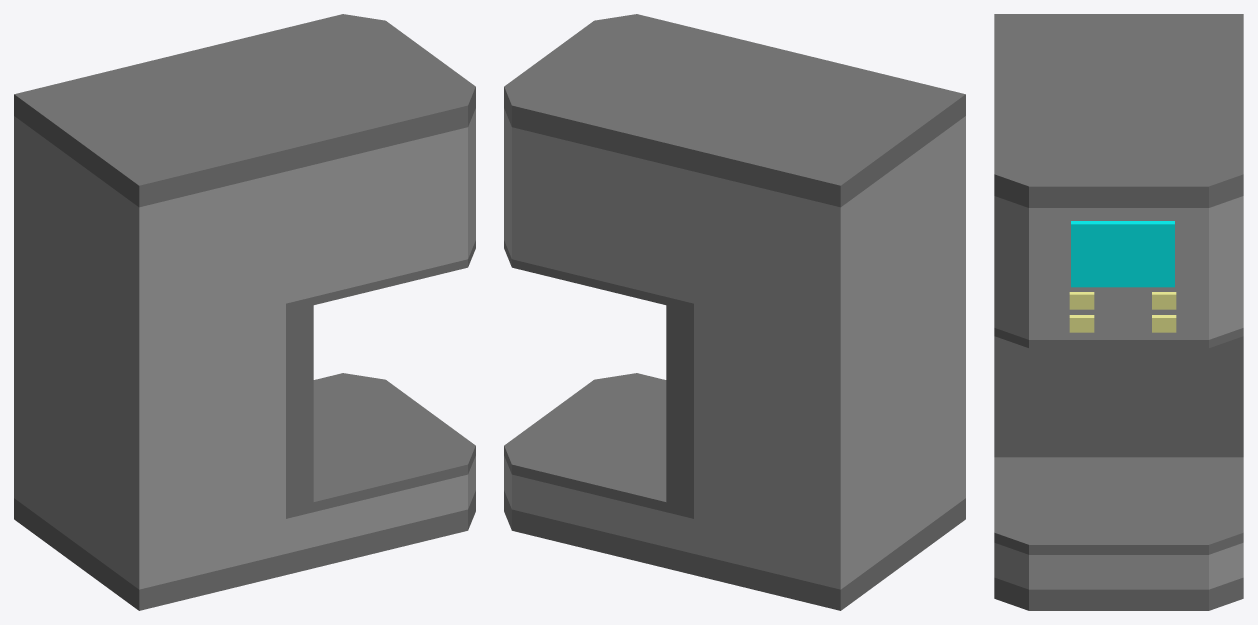
File: Coffee Machine Body.fbx
3 renders of one model, left to right at view 1: azimuth 30°, elevation 25°; view 2: azimuth 150°, elevation 25°; view 3: azimuth 270°, elevation 25°, orthographic.
Visible parts, largest first — view 1: Coffee_Machine; view 2: Coffee_Machine; view 3: Coffee_Machine.
Part boxes in pixels (box(x1,y1,x2,y2)): Coffee_Machine: box(14, 14, 475, 610); Coffee_Machine: box(504, 14, 965, 610); Coffee_Machine: box(994, 14, 1243, 610).
Size of the model in its own units: 5.97 by 6.72 by 3.58.
